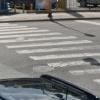Crosswalk: (6, 17, 92, 83)
